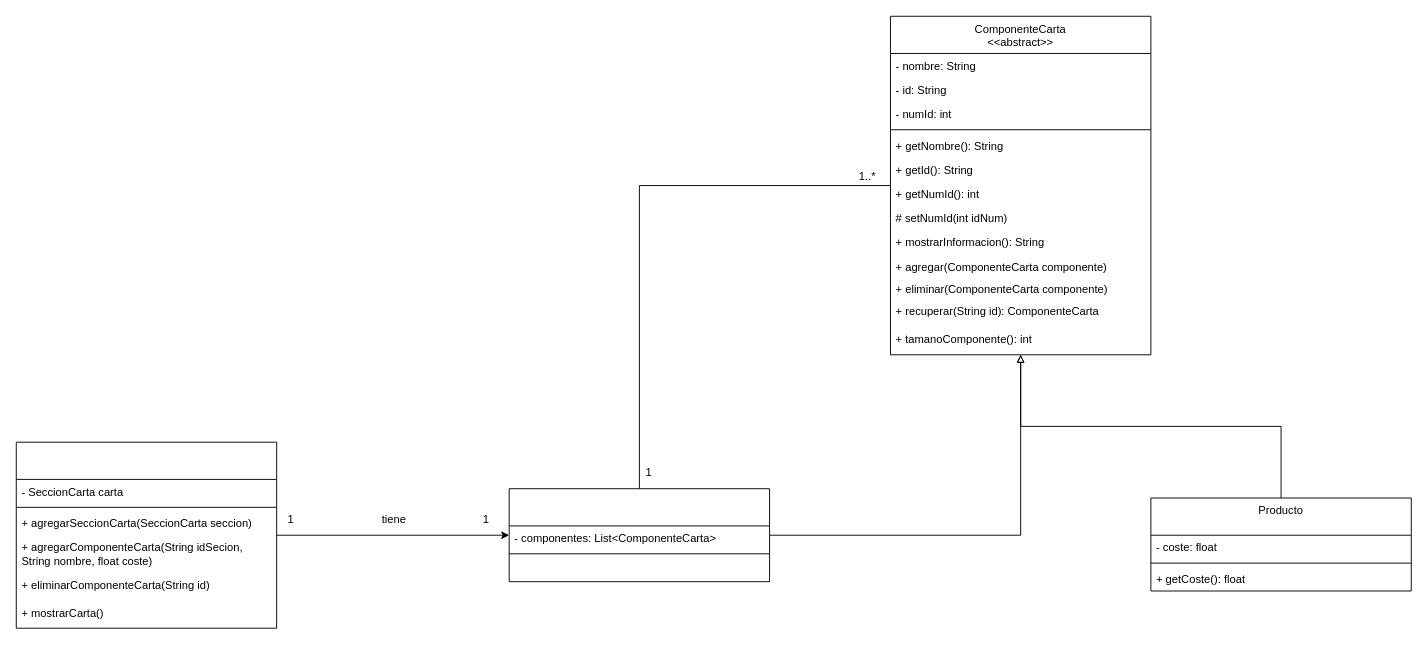
The diagram is 1428 pixels wide and 647 high, and some of its shapes have lost their labels. The box of each missing label's shape, as (x1, y1, x2, y2) in pixels:
Restaurante: (15, 441, 277, 628)
SeccionCarta: (508, 488, 770, 582)
